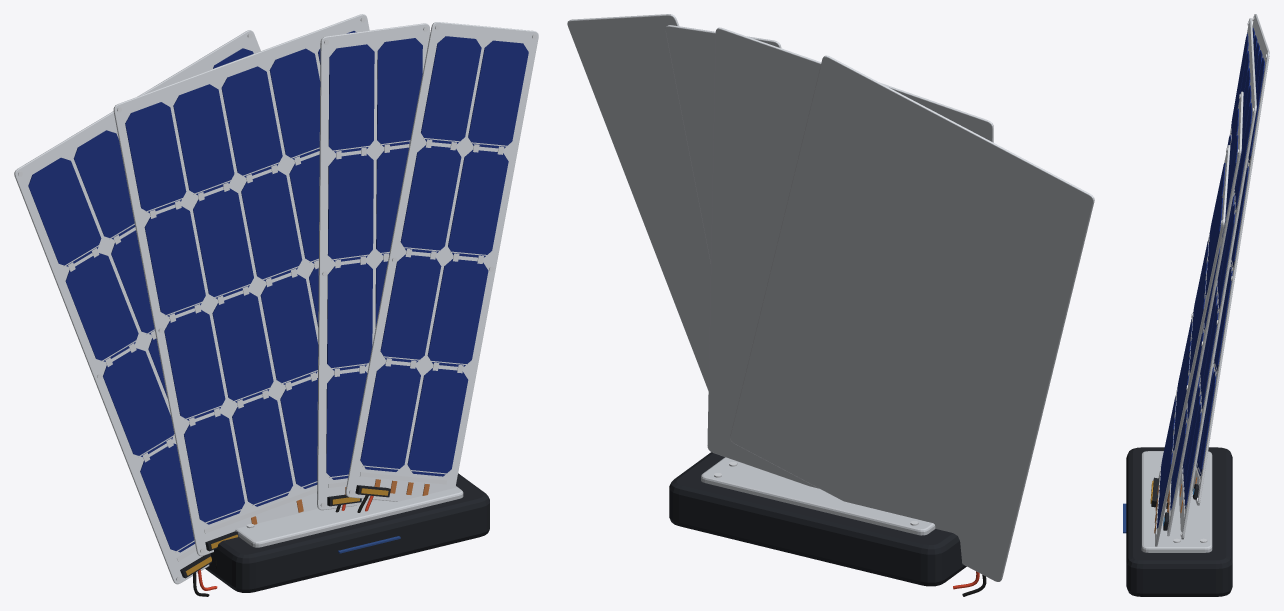
Rendered from solar-body.glb.
The picture shows the model from 3 angles, left to right: view 1: azimuth 30°, elevation 25°; view 2: azimuth 150°, elevation 25°; view 3: azimuth 270°, elevation 25°; orthographic projection. The views are drawn at different scales.
Visible parts, largest first — view 1: panel-large-b-cells, panel-side-b-cells, panel-large-a-cells, panel-side-a-cells, panel-large-b-substrate, panel-side-b-substrate, stand-base, panel-large-a-substrate, panel-side-a-substrate, stand-cap, panel-large-b-interconnects, panel-side-b-interconnects (+2 smaller); view 2: panel-large-a-substrate, panel-large-b-substrate, panel-side-b-substrate, stand-base, panel-side-a-substrate, stand-cap; view 3: stand-base, stand-cap, panel-large-b-cells, panel-side-b-cells, panel-large-b-substrate, panel-large-a-cells, panel-large-a-substrate, panel-side-a-substrate, panel-side-b-substrate, panel-side-a-cells, panel-side-b-interconnects, panel-large-b-interconnects.
Part boxes in pixels (x1=…): panel-large-b-cells: x1=125, y1=31, x2=356, y2=524; panel-side-b-cells: x1=360, y1=36, x2=528, y2=476; panel-large-a-cells: x1=28, y1=48, x2=253, y2=552; panel-side-a-cells: x1=326, y1=38, x2=422, y2=479; panel-large-b-substrate: x1=113, y1=14, x2=369, y2=556; panel-side-b-substrate: x1=345, y1=22, x2=538, y2=501; stand-base: x1=205, y1=473, x2=489, y2=592; panel-large-a-substrate: x1=14, y1=30, x2=260, y2=584; panel-side-a-substrate: x1=317, y1=23, x2=429, y2=510; stand-cap: x1=235, y1=486, x2=463, y2=547; panel-large-b-interconnects: x1=145, y1=147, x2=319, y2=523; panel-side-b-interconnects: x1=362, y1=138, x2=508, y2=474; panel-large-a-substrate: x1=730, y1=55, x2=1094, y2=581; panel-large-b-substrate: x1=707, y1=27, x2=993, y2=488; panel-side-b-substrate: x1=567, y1=14, x2=710, y2=390; stand-base: x1=669, y1=452, x2=966, y2=586; panel-side-a-substrate: x1=665, y1=25, x2=781, y2=263; stand-cap: x1=701, y1=457, x2=935, y2=535; stand-base: x1=1126, y1=447, x2=1232, y2=596; stand-cap: x1=1141, y1=451, x2=1212, y2=552; panel-large-b-cells: x1=1182, y1=33, x2=1252, y2=508; panel-side-b-cells: x1=1157, y1=163, x2=1225, y2=528; panel-large-b-substrate: x1=1179, y1=18, x2=1256, y2=539; panel-large-a-cells: x1=1196, y1=28, x2=1264, y2=475; panel-large-a-substrate: x1=1192, y1=14, x2=1269, y2=505; panel-side-a-substrate: x1=1167, y1=91, x2=1243, y2=536; panel-side-b-substrate: x1=1155, y1=145, x2=1230, y2=546; panel-side-a-cells: x1=1170, y1=108, x2=1238, y2=510; panel-side-b-interconnects: x1=1156, y1=232, x2=1209, y2=528; panel-large-b-interconnects: x1=1182, y1=125, x2=1235, y2=507.
Size of the model in its own units: 0.4157 by 0.4032 by 0.1099.
